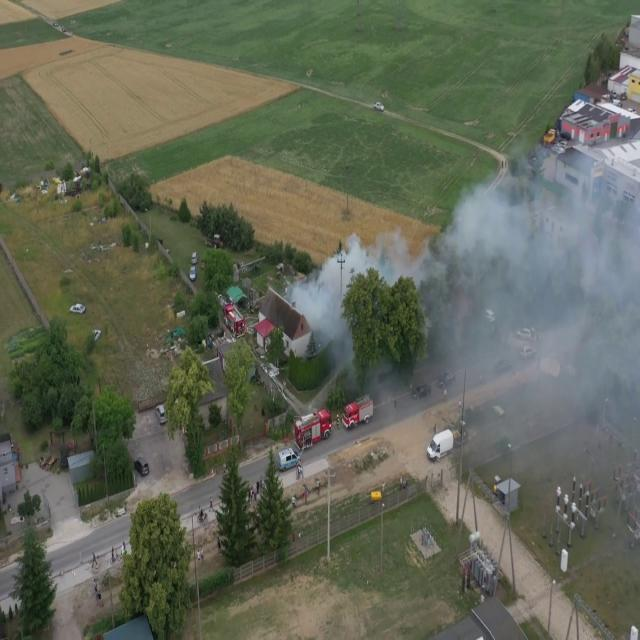Smoke: (421, 144, 640, 484), (288, 243, 362, 385)
